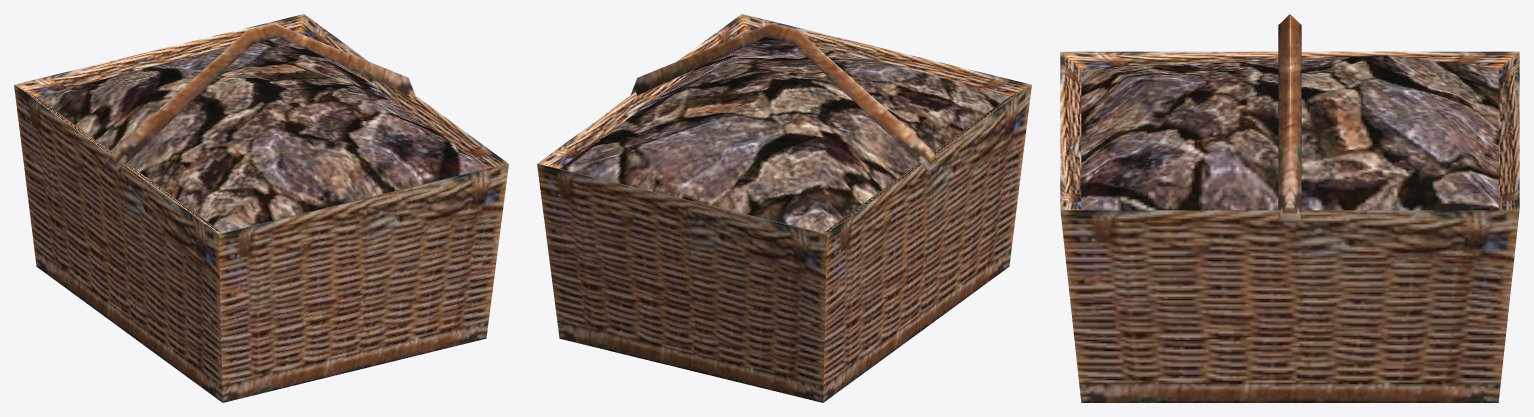
The model's file is m_busket1.glb.
3 views of the same model, side by side, from view 1: azimuth 30°, elevation 25°; view 2: azimuth 150°, elevation 25°; view 3: azimuth 270°, elevation 25° (orthographic). The views are drawn at different scales.
Visible parts, largest first — view 1: m_busket1; view 2: m_busket1; view 3: m_busket1.
Boxes of the visible parts, left/top/right/bottom form: m_busket1: left=14, top=14, right=508, bottom=402; m_busket1: left=537, top=14, right=1031, bottom=402; m_busket1: left=1060, top=14, right=1519, bottom=402.
Size of the model in its own units: 1.26 by 1.11 by 1.49.
Materials: 2 (2 with a texture image).
